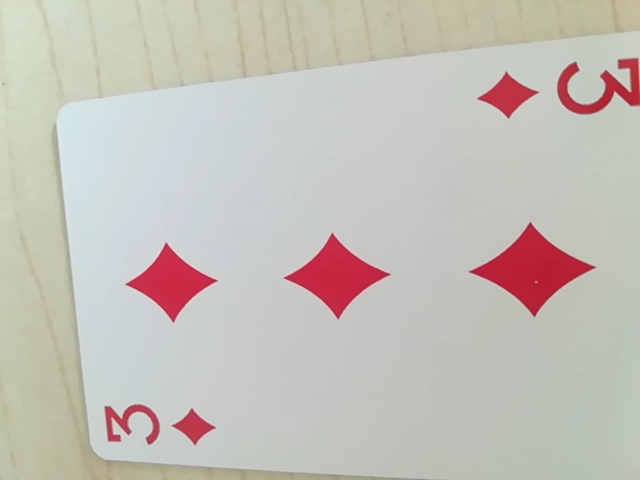fk 3: (474, 49, 639, 127), (98, 391, 226, 458)
